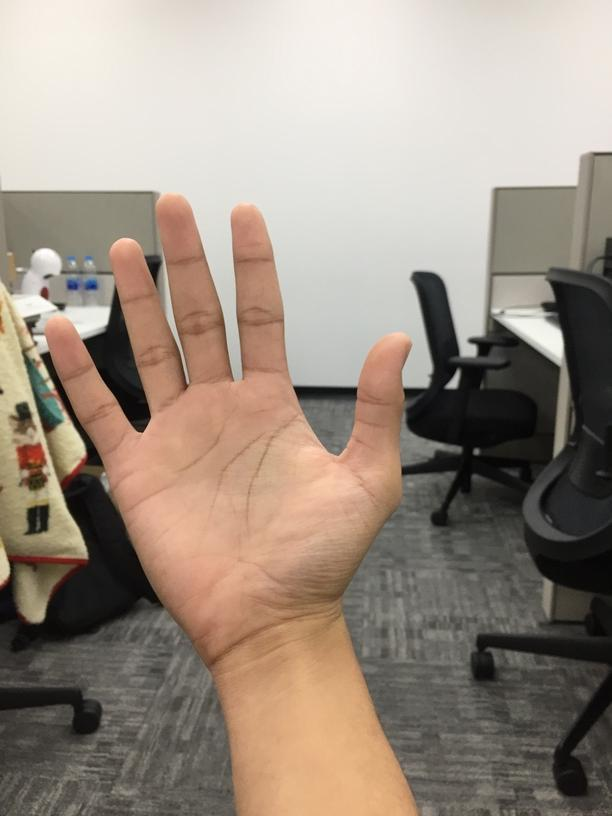hand: (43, 189, 414, 613)
